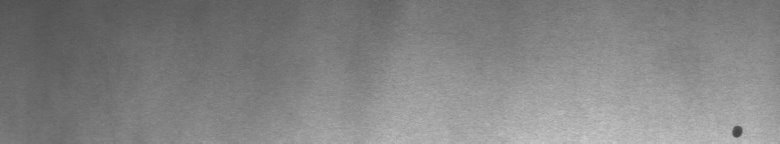fi: (725, 116, 748, 136)
